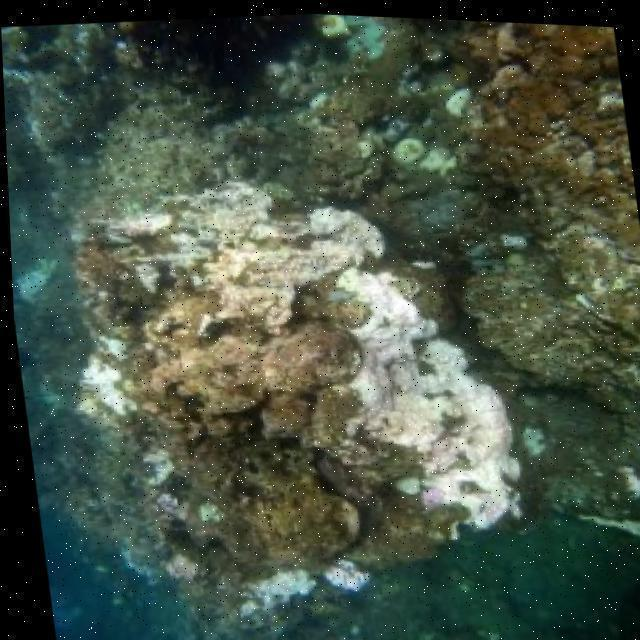Bleached Coral: (304, 225, 526, 537), (71, 148, 392, 323)
Dead Coral: (139, 337, 306, 556)
